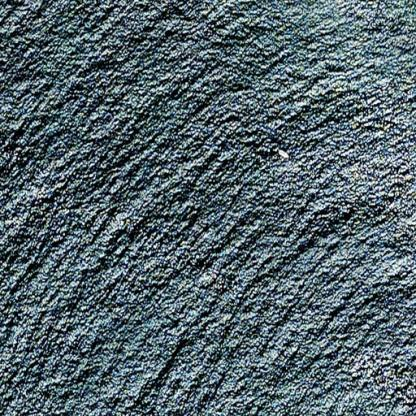ship: (268, 140, 293, 164)
